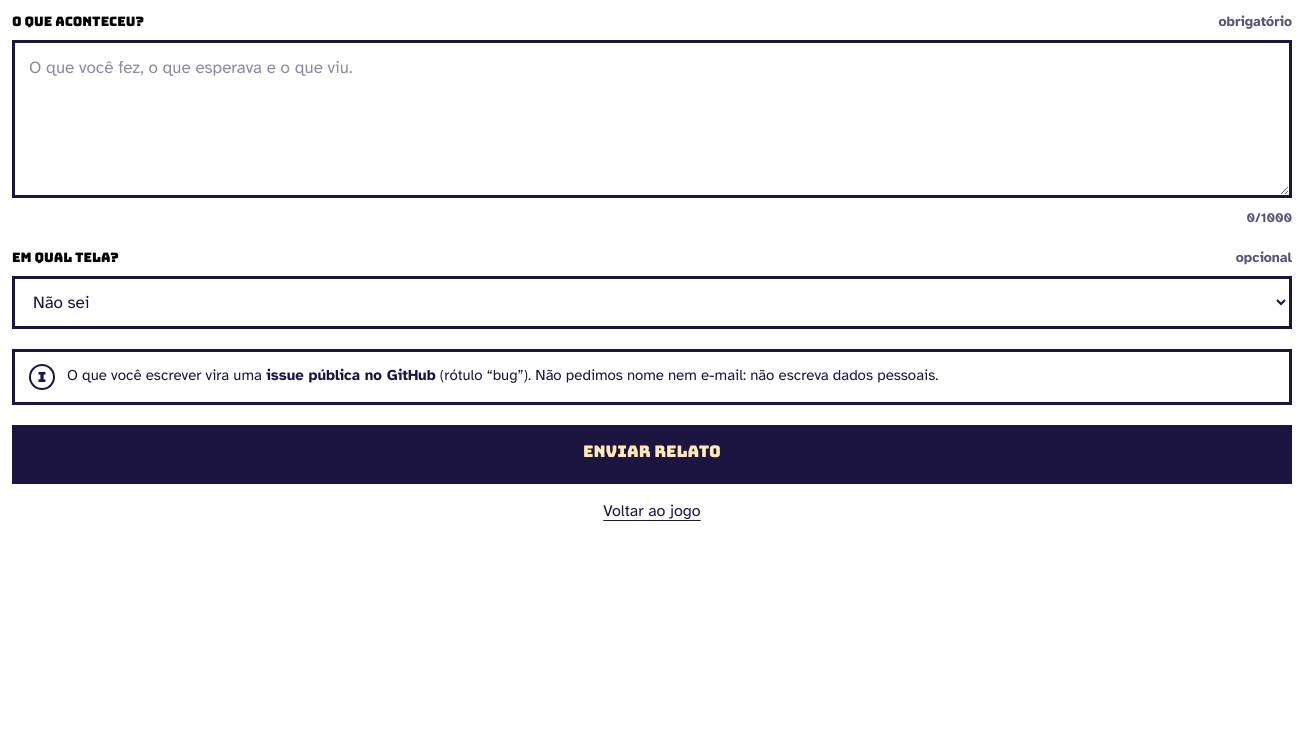
Scenario: FormularioContribuicao: problema › descrição curta: mensagem e nenhum envio; aceita com a tela escolhida
In the text box labelled "O que aconteceu? obrigatório": (652, 119) 12,40 -> 1292,198, type "curto"
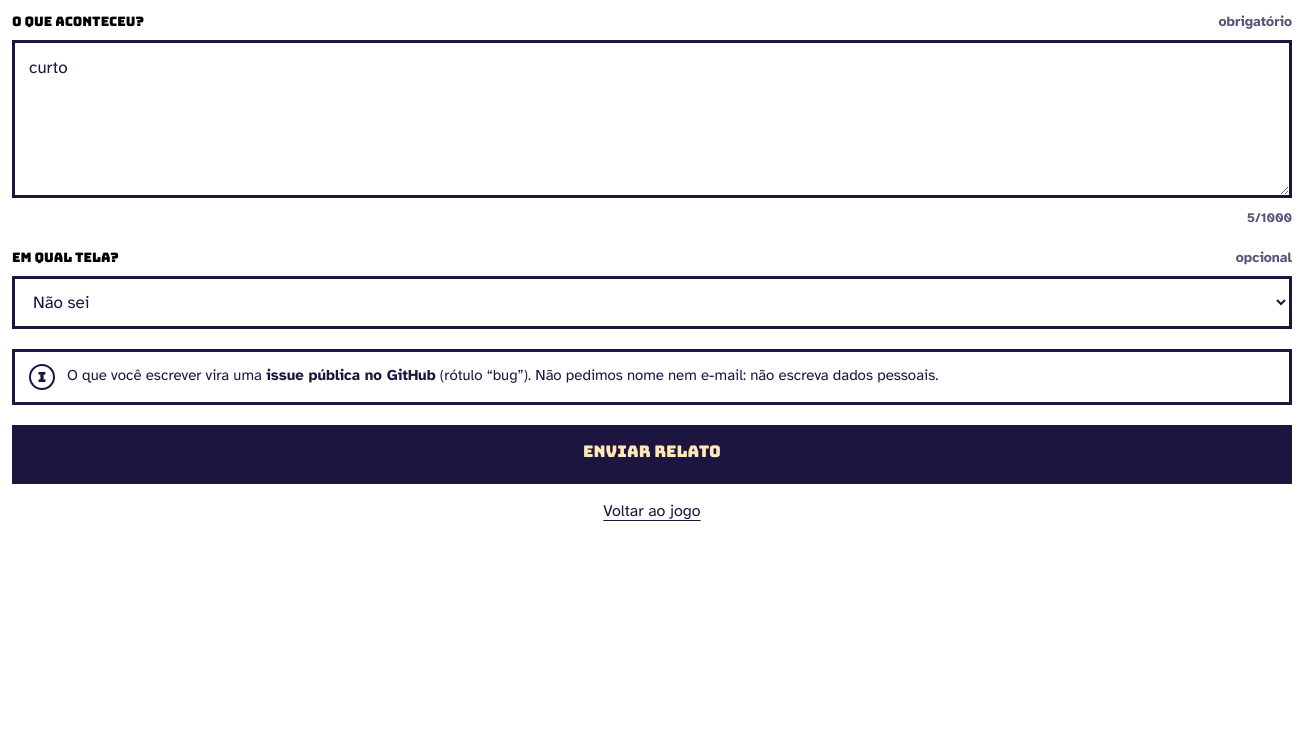
Click the button "Enviar relato": (652, 452) 12,425 -> 1292,479
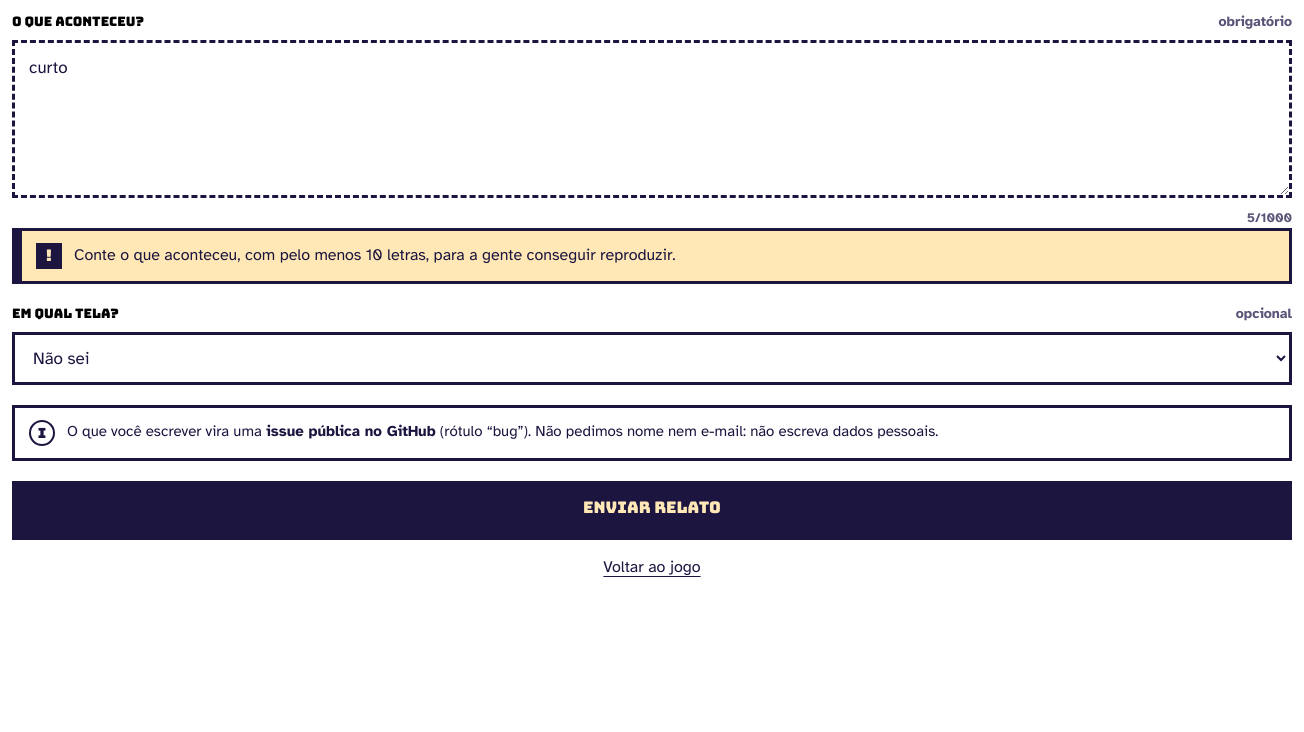
Now the message shows "pelo menos 10 letras", box 74,245 -> 676,265
Replace the text in the text box labelled "O que aconteceu? obrigatório" with "O botão Continuar não faz nada.": (652, 119) 12,40 -> 1292,198
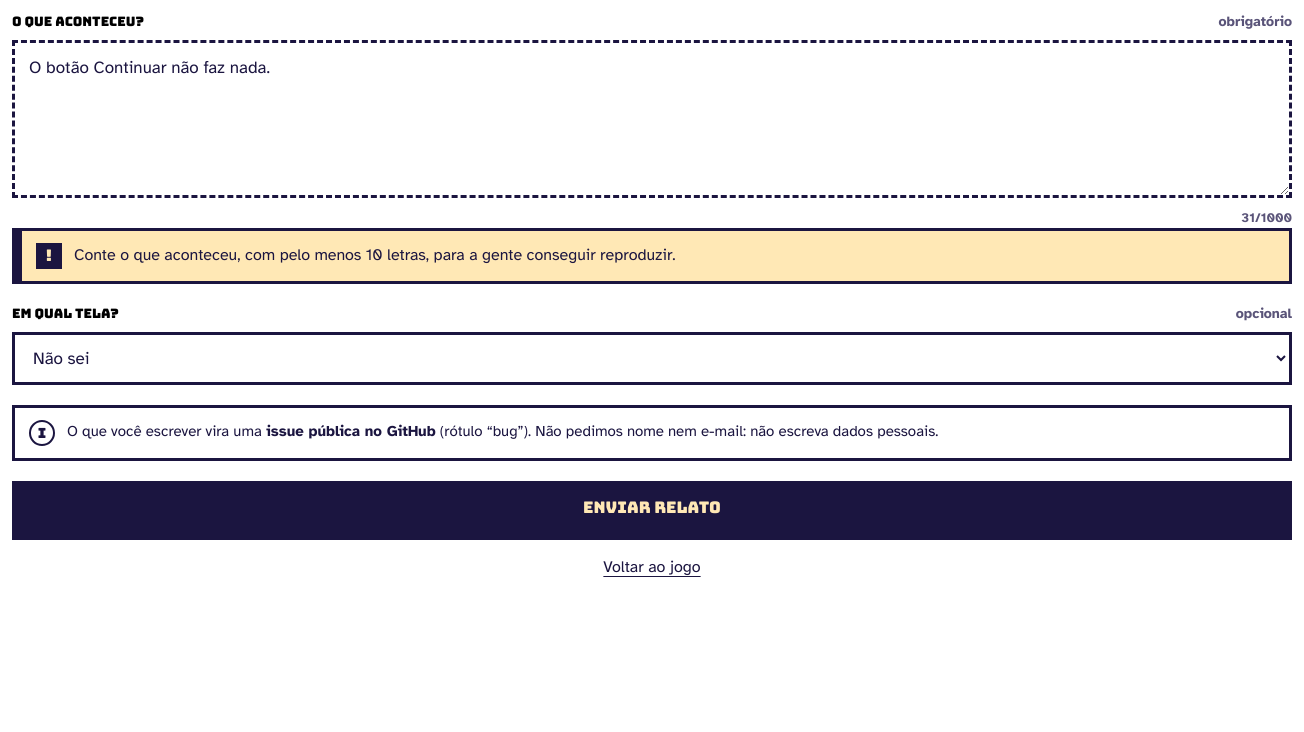
Select "Fim de jogo" in the dropdown labelled "Em qual tela? opcional": (652, 358) 12,332 -> 1292,385
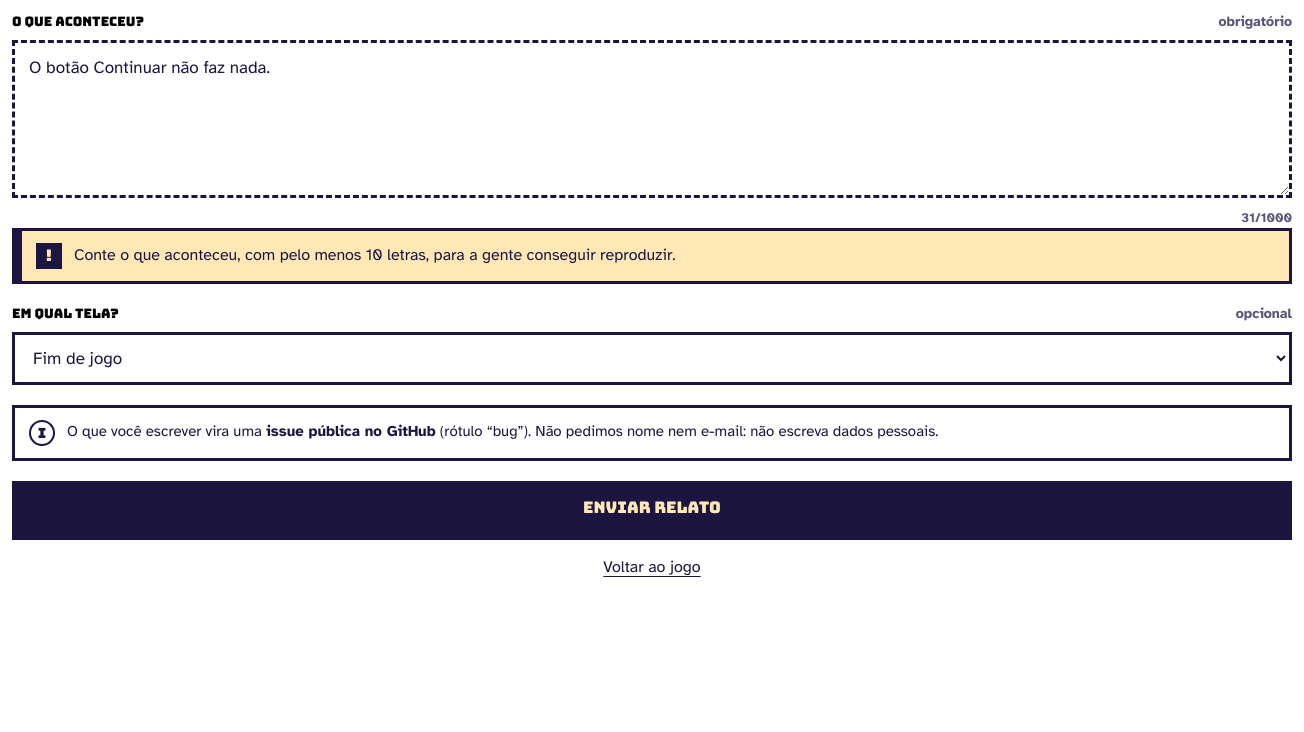
Click the button "Enviar relato": (652, 508) 12,481 -> 1292,535
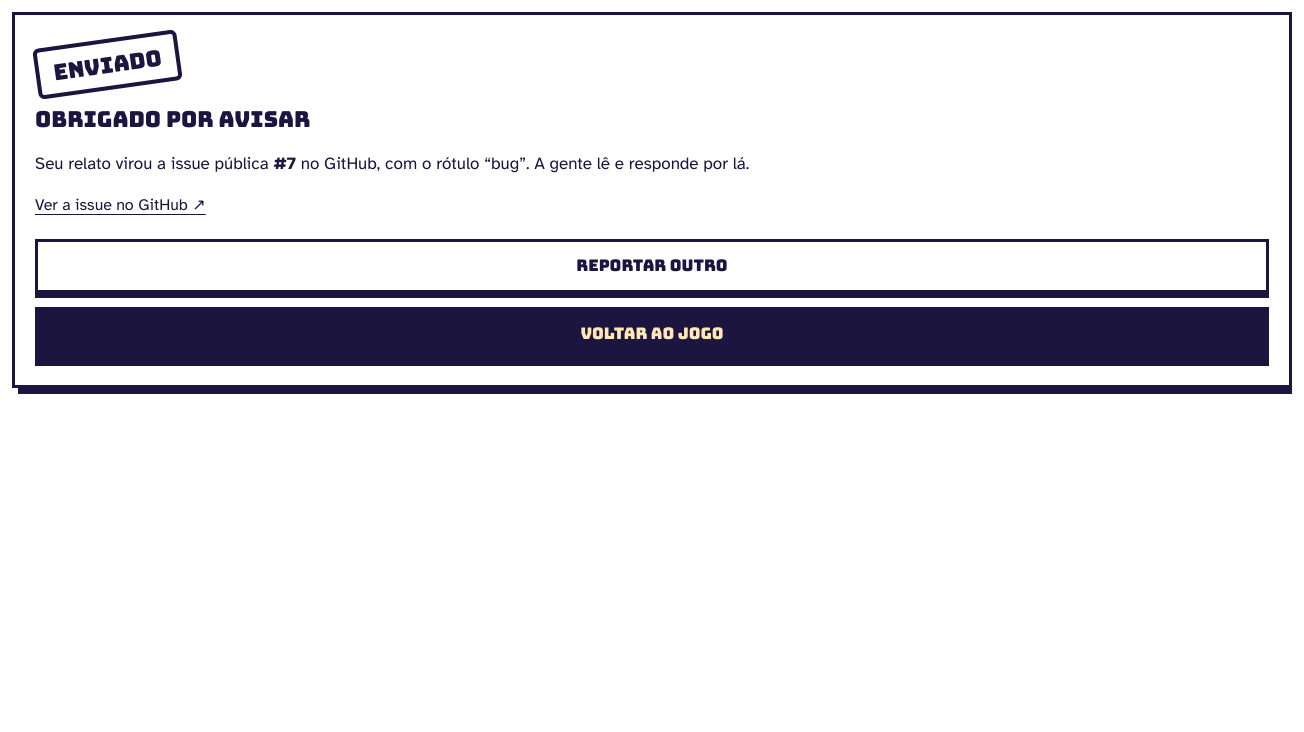
Now the message shows "rótulo “bug”", box 296,152 -> 749,174
